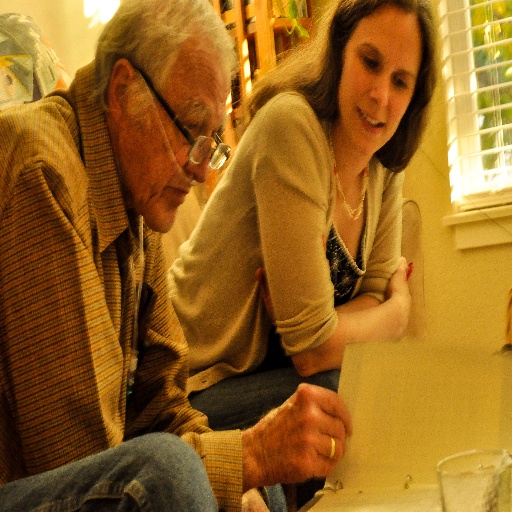hand: (253, 382, 353, 488), (387, 256, 413, 337), (254, 264, 277, 319)
